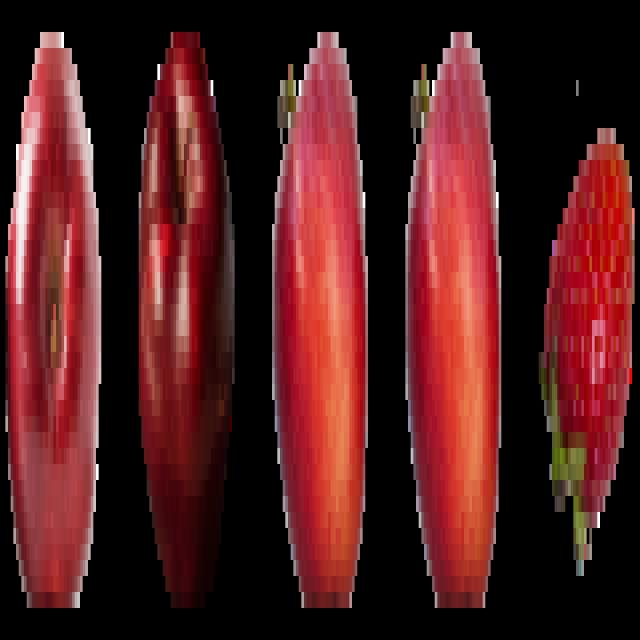apple: (396, 9, 506, 620), (132, 16, 242, 619), (265, 13, 372, 624), (3, 22, 105, 625)
strawberry: (535, 70, 635, 580)
